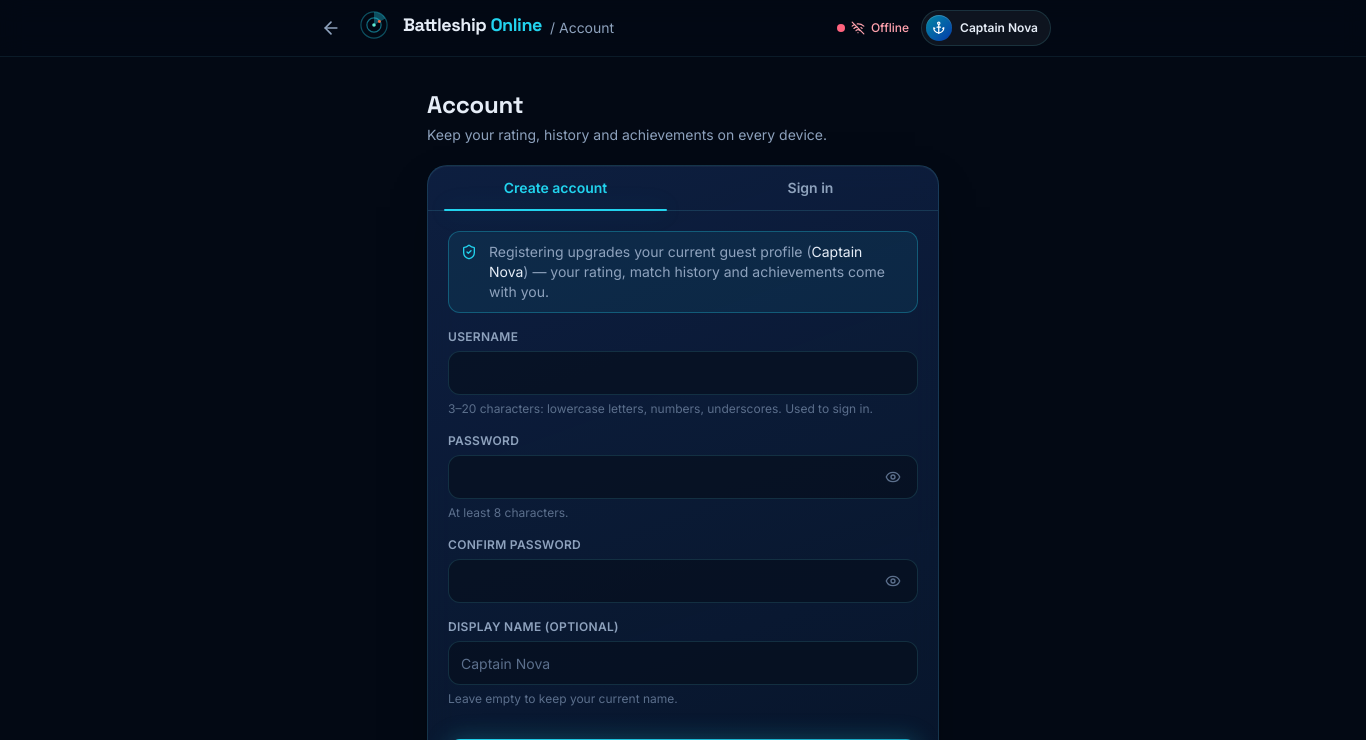
Test: AccountScreen › flags mismatched password confirmation
Type "captain" into the field labelled "Username" at {"x": 683, "y": 373}, box [461,352,905,394]
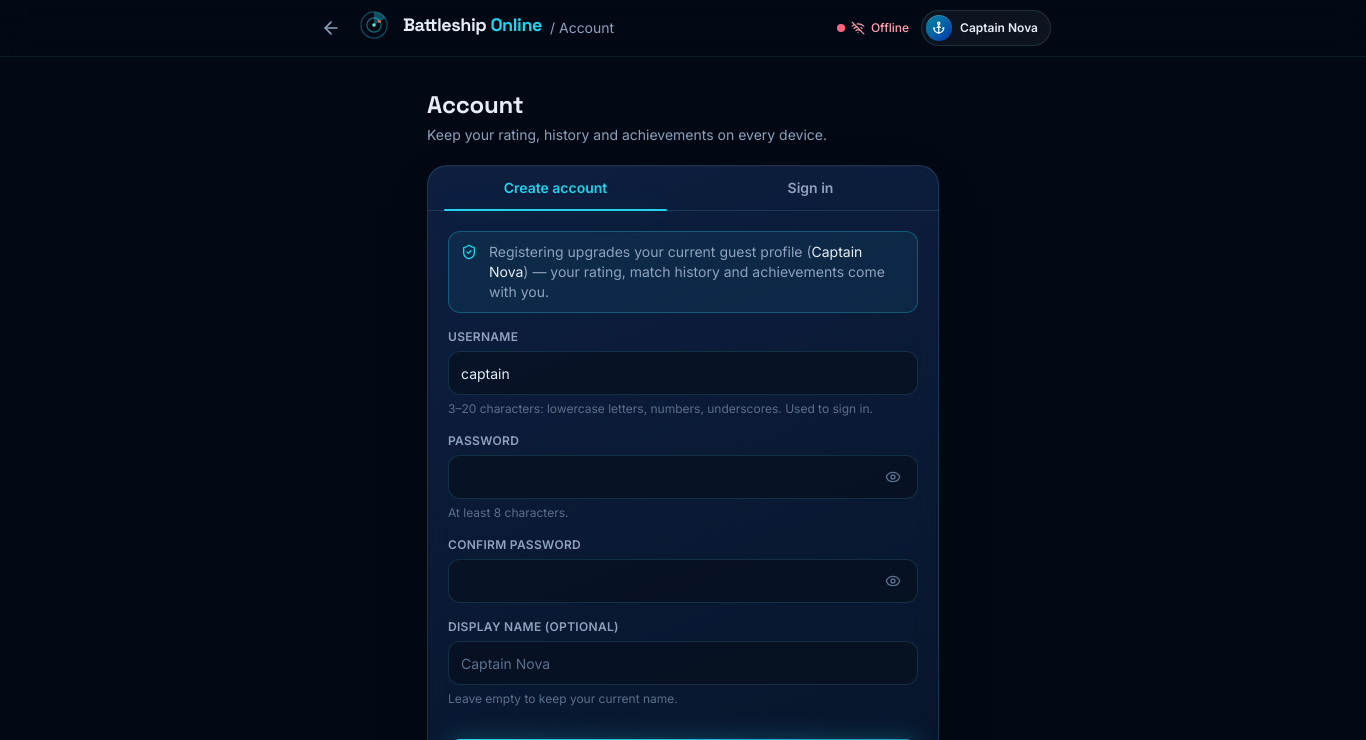
Type "longenough1" into the password field labelled "Password At least 8 characters." at {"x": 667, "y": 477}, box [461,456,873,498]
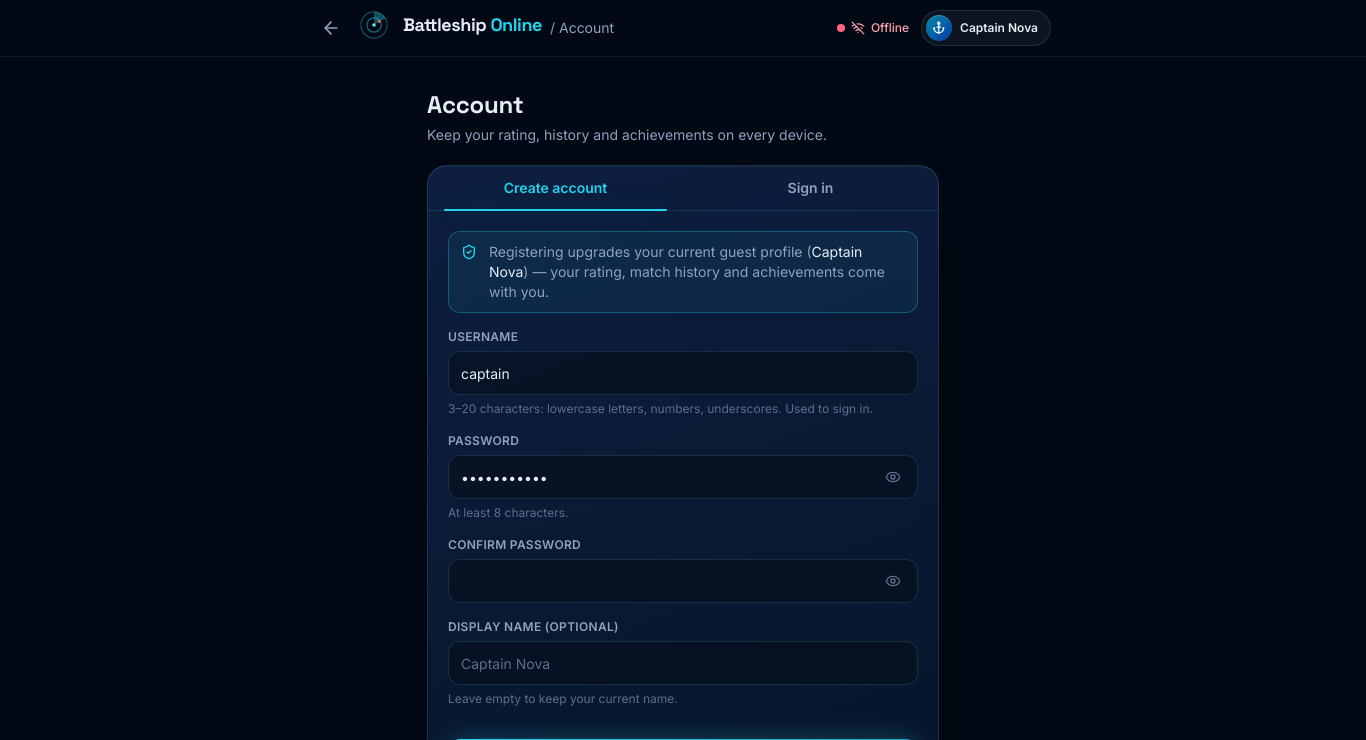
Type "longenough2" into the password field labelled "Confirm password" at {"x": 667, "y": 581}, box [461,560,873,602]
(page scrolled)
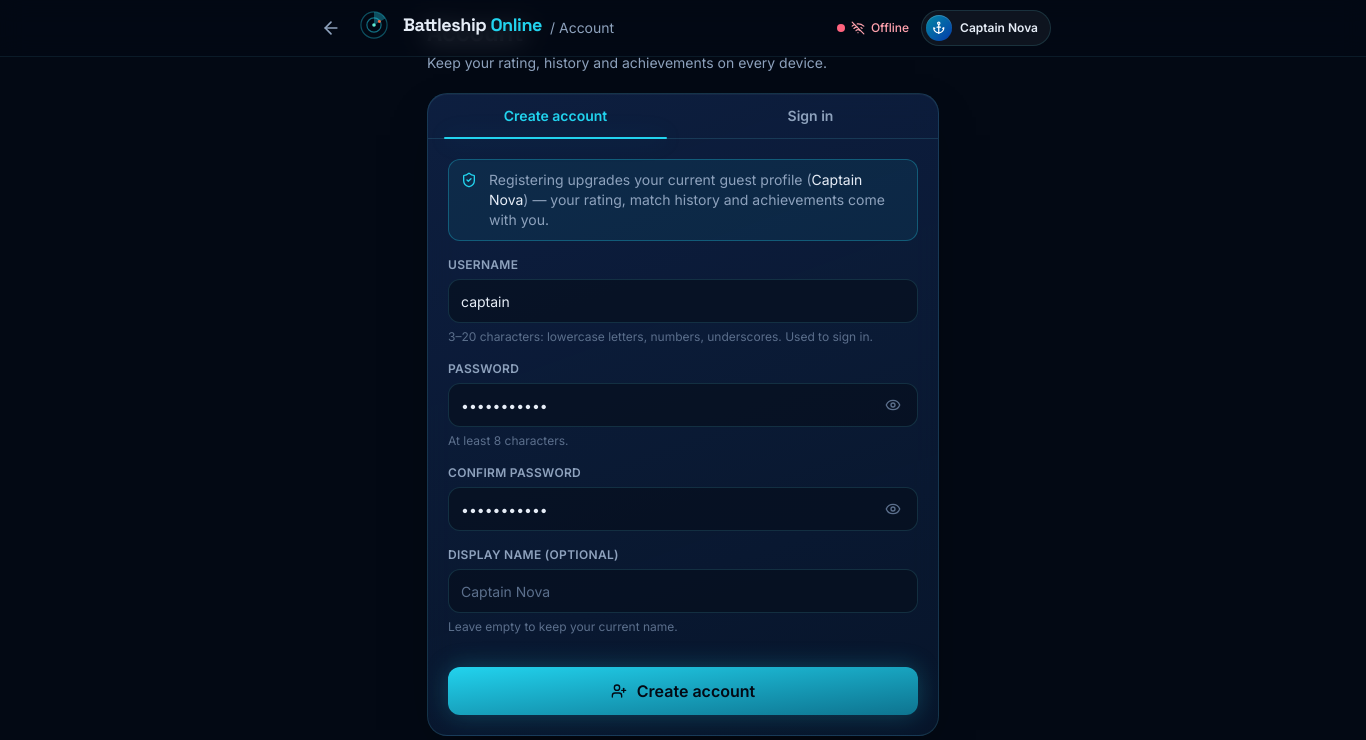
Click the button "Create account" at {"x": 683, "y": 691}, box [448,667,918,715]
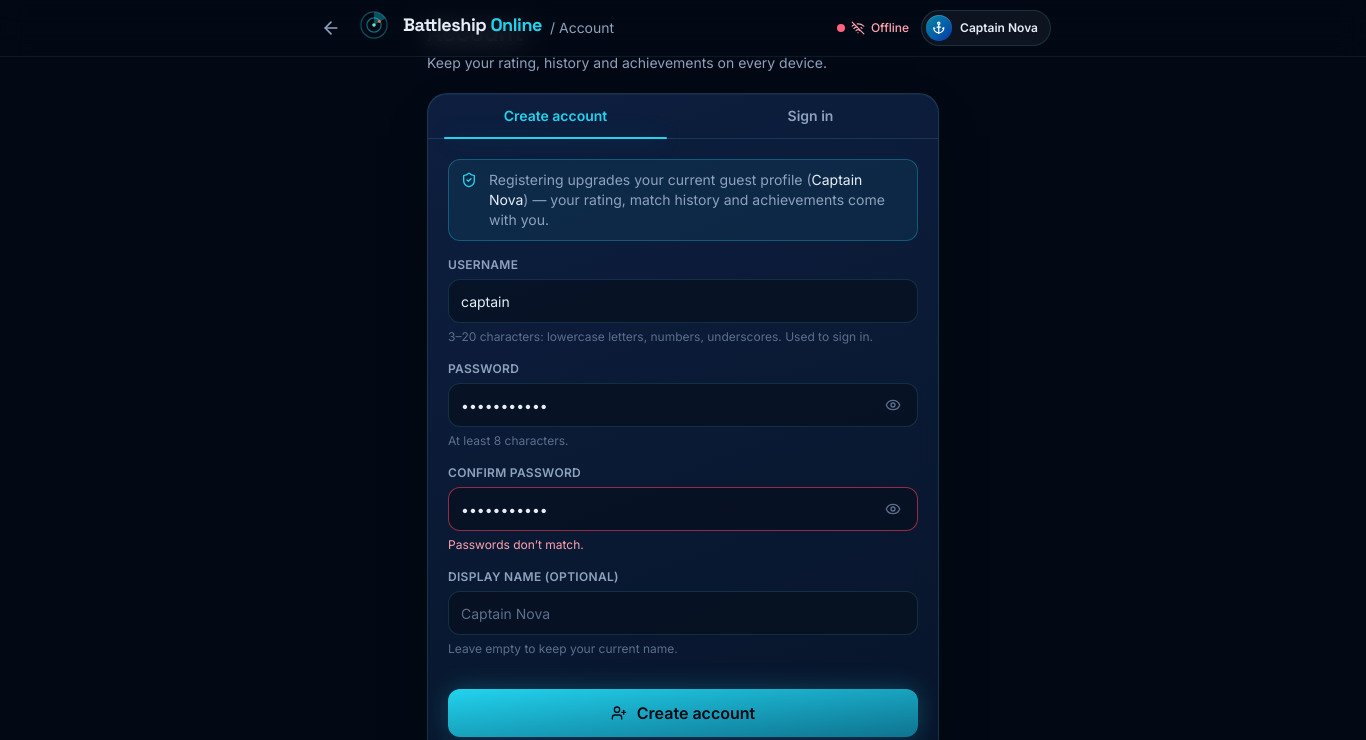
expect the text "Passwords don’t match." is shown: met, box [448,537,584,552]
